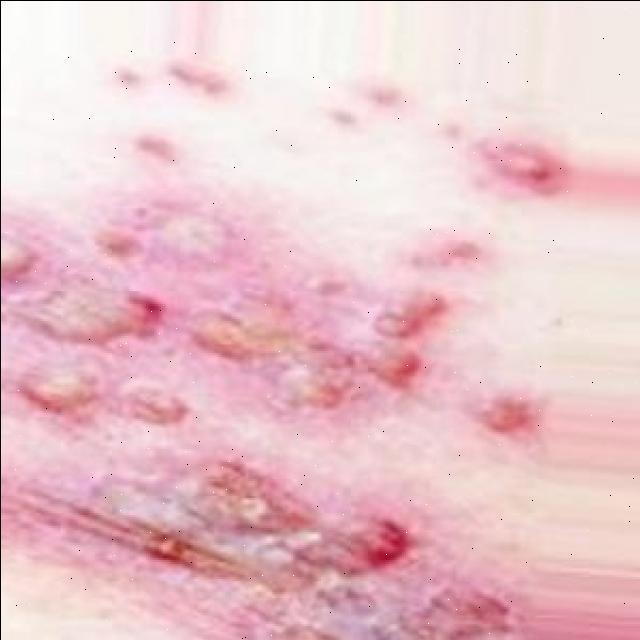Shingles: (0, 195, 507, 638)
